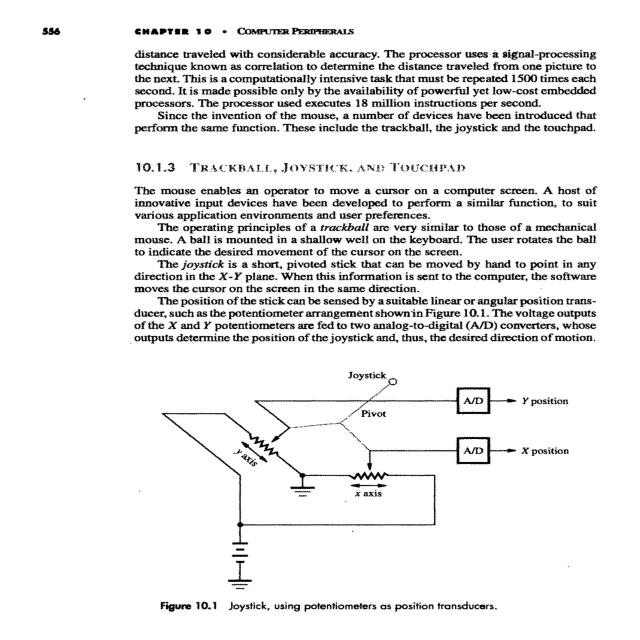diagram: (100, 366, 640, 628)
